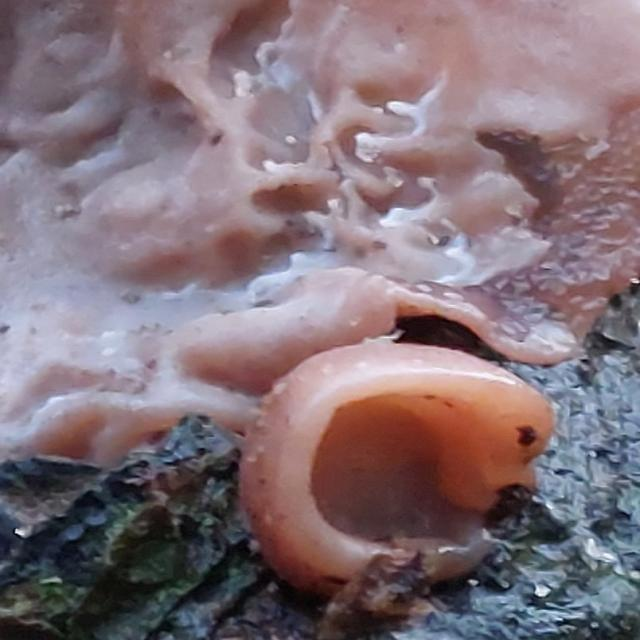Fase Muda: (244, 339, 530, 584)
